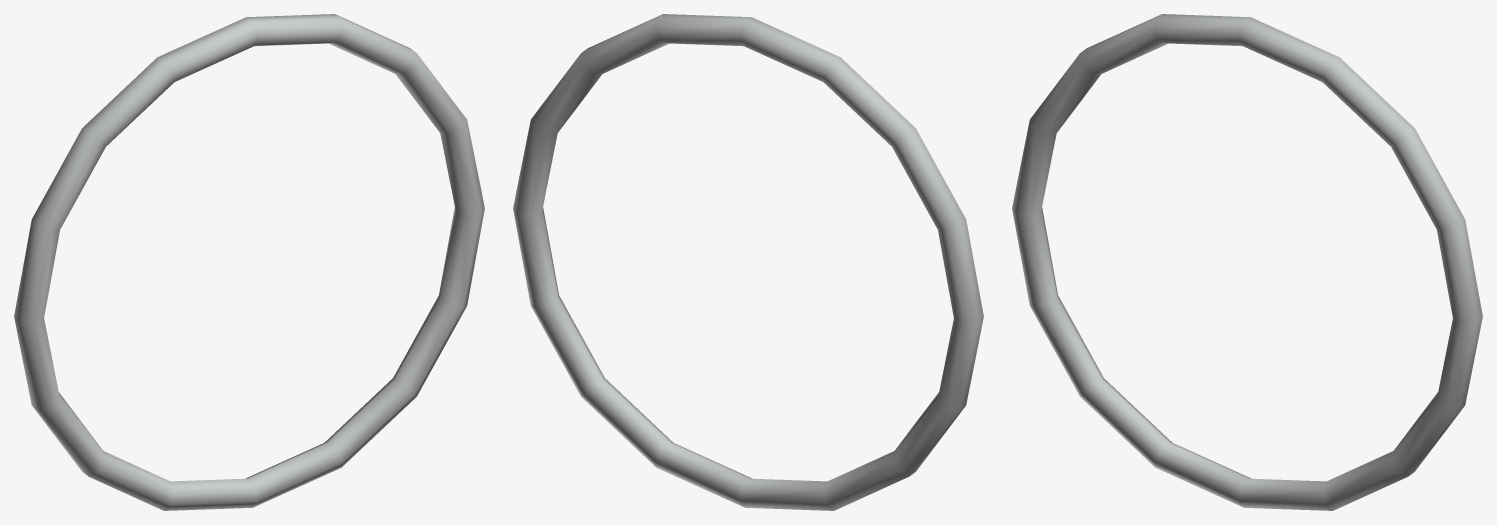
Rendered from chain_grande_maiale.fbx.
The picture shows the model from 3 angles, left to right: view 1: azimuth 30°, elevation 25°; view 2: azimuth 150°, elevation 25°; view 3: azimuth 330°, elevation 25°; orthographic projection.
Parts seen in each view (by area): view 1: polySurface11; view 2: polySurface11; view 3: polySurface11.
Part boxes in pixels (bbox=[...]): polySurface11: bbox=[14, 14, 484, 510]; polySurface11: bbox=[513, 14, 983, 510]; polySurface11: bbox=[1012, 14, 1482, 510].
Bounding box in the file's own units: 1.44 × 1.44 × 0.0813.
